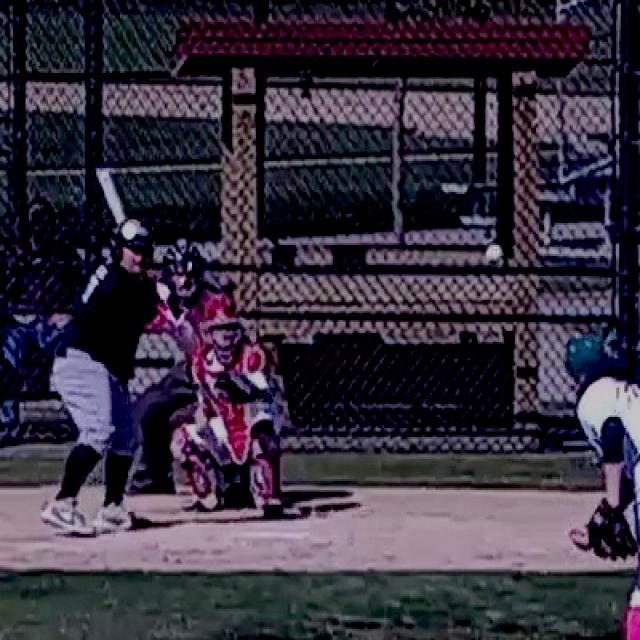baseball: (487, 245, 501, 261)
